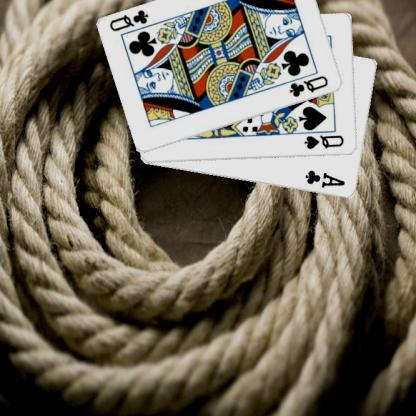AC: (305, 167, 348, 190)
QC: (288, 73, 332, 99), (109, 7, 152, 33)
QS: (304, 133, 347, 151)
